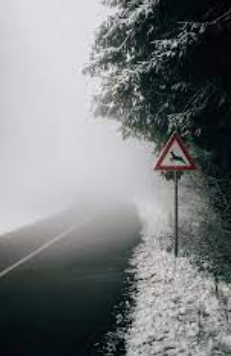Animal Crossing: (151, 126, 195, 171)
